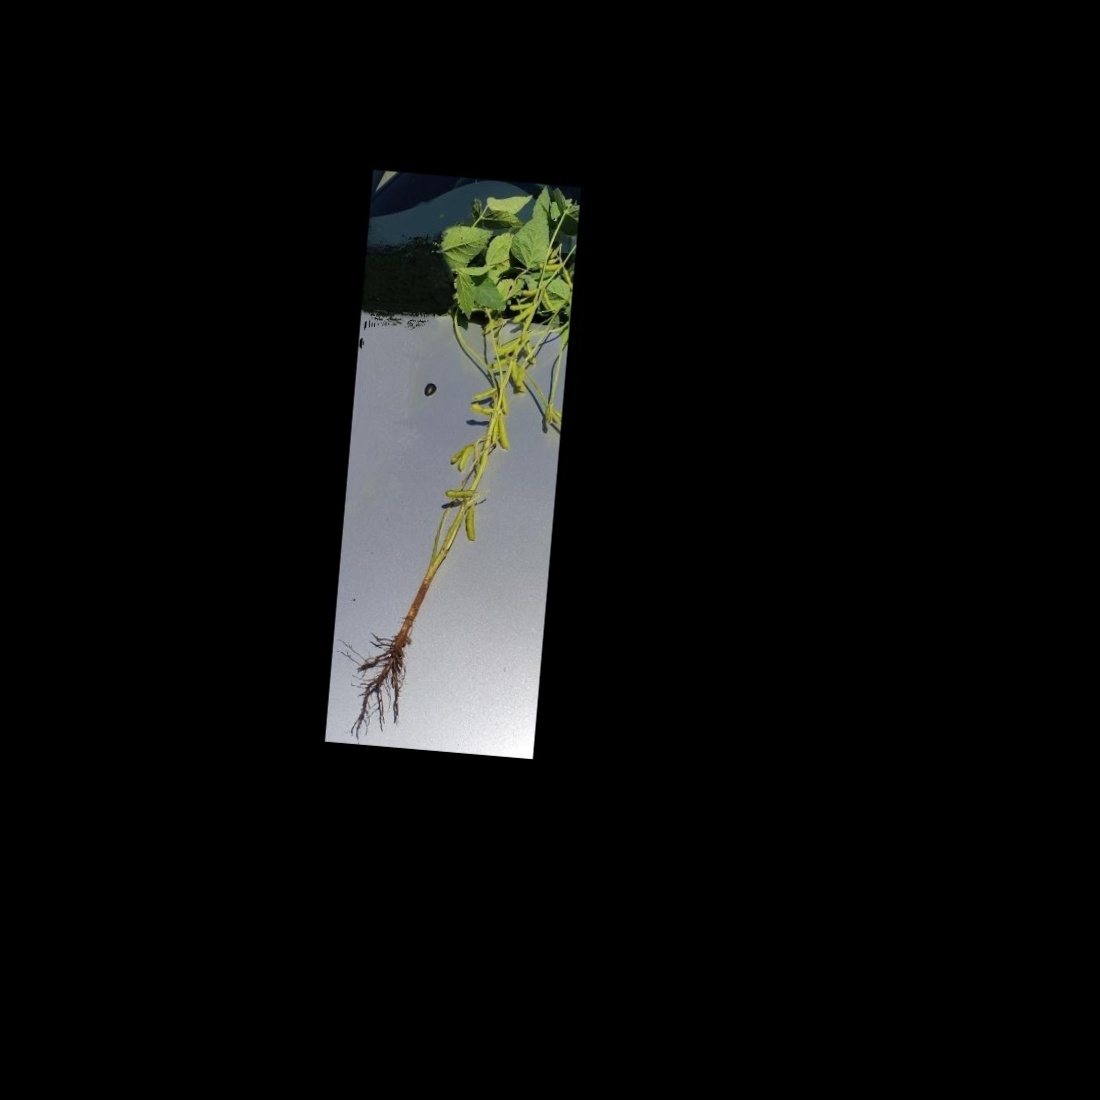pod: (461, 499, 479, 544), (454, 440, 477, 475), (494, 414, 513, 455), (508, 303, 533, 329), (468, 385, 504, 403), (467, 402, 501, 417), (440, 487, 475, 501), (505, 298, 535, 314)
soy: (350, 200, 572, 713)
